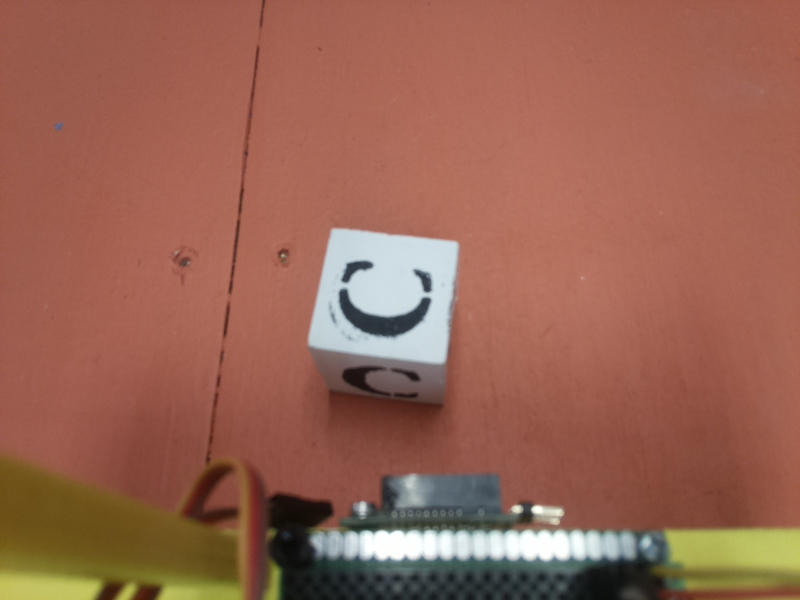blockC: (307, 227, 459, 409)
